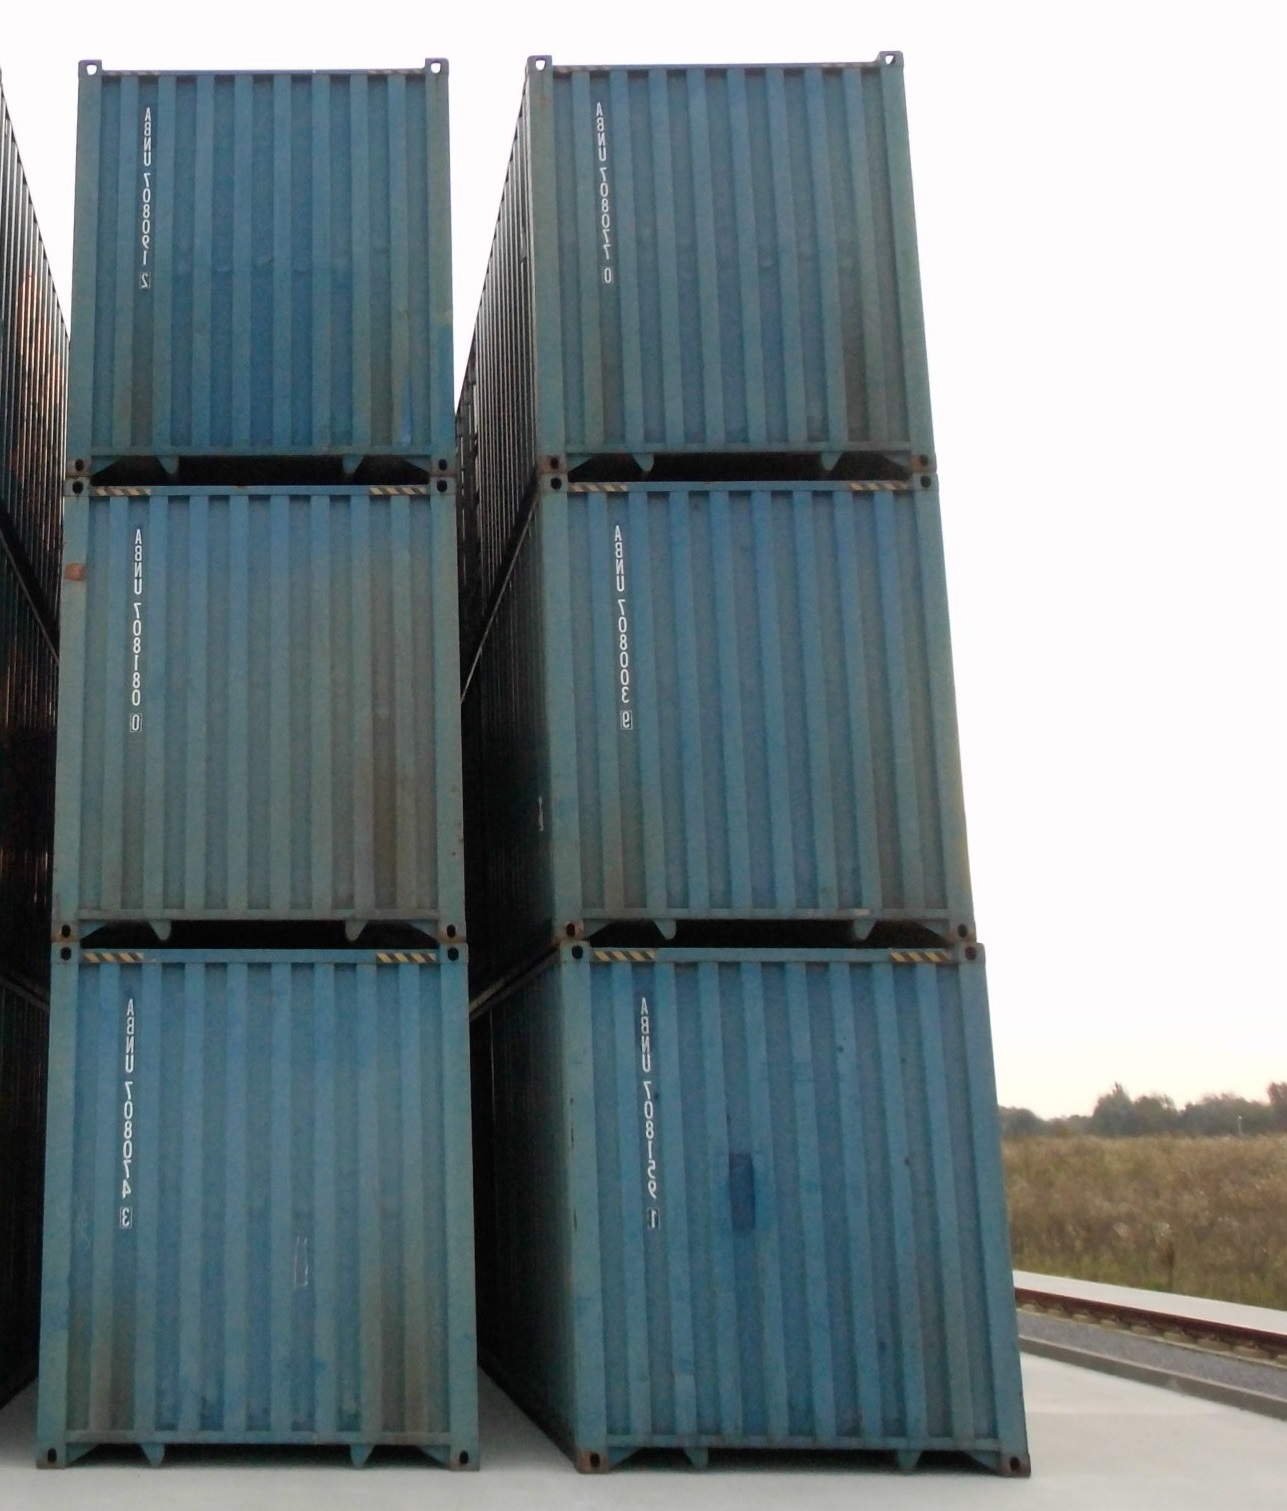container_no_door: (569, 948, 1035, 1477), (34, 946, 480, 1471), (541, 466, 972, 948), (61, 479, 463, 941), (523, 46, 933, 468), (66, 56, 458, 479)
